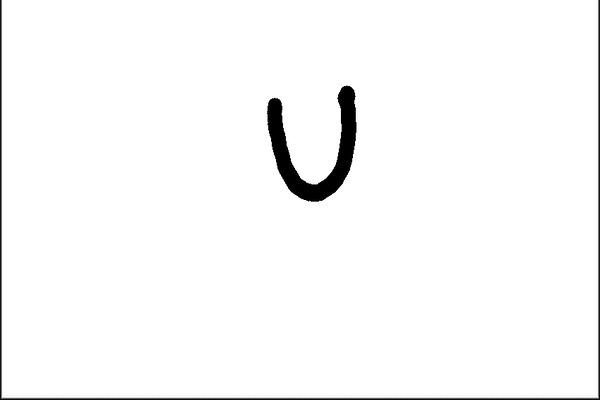U: (262, 79, 373, 213)
